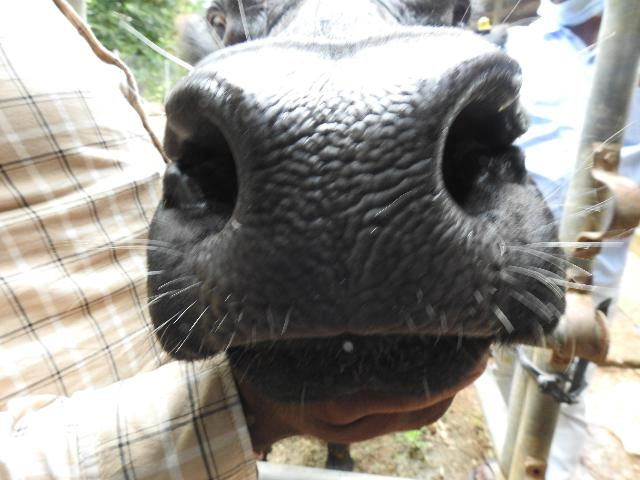Muzzle: (234, 73, 438, 328)
